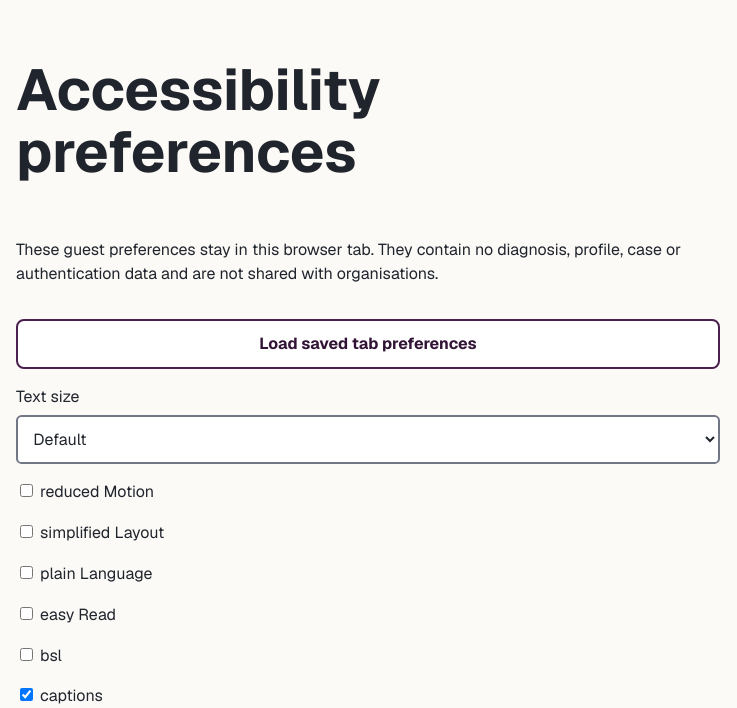
Test: Phase 6 accessibility preferences › is keyboard-operable and saves only presentation preferences in the tab
Step 1. Click the checkbox labelled "easy Read" → (26, 613), box [20,607,33,620]
(page scrolled)
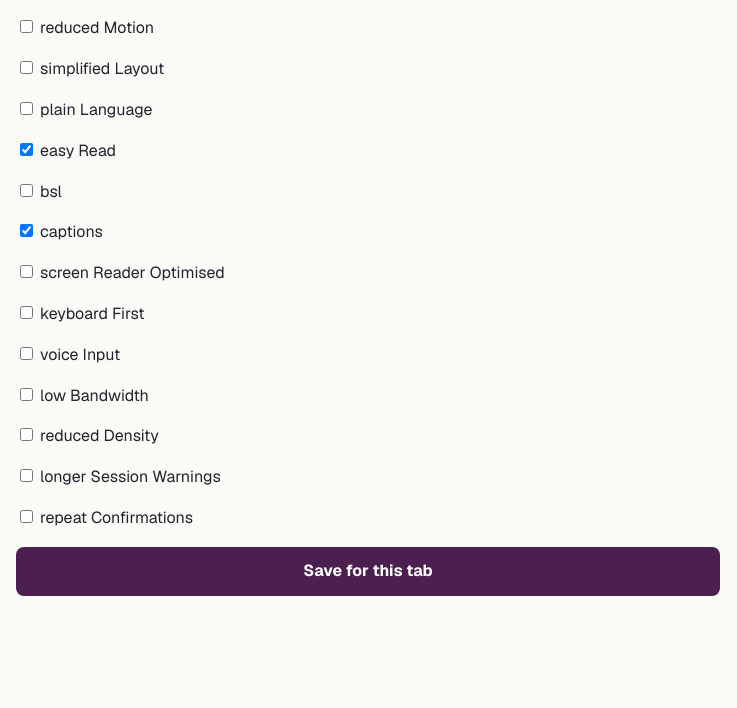
Step 2. Click the button "Save for this tab" → (368, 572), box [16,547,720,596]
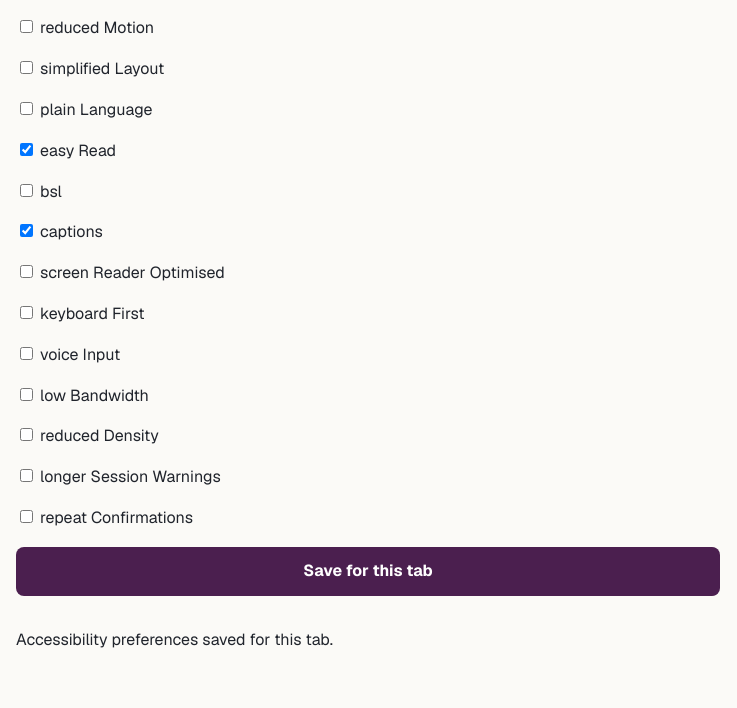
Expected: the message shows "saved", [16,629,333,650]
